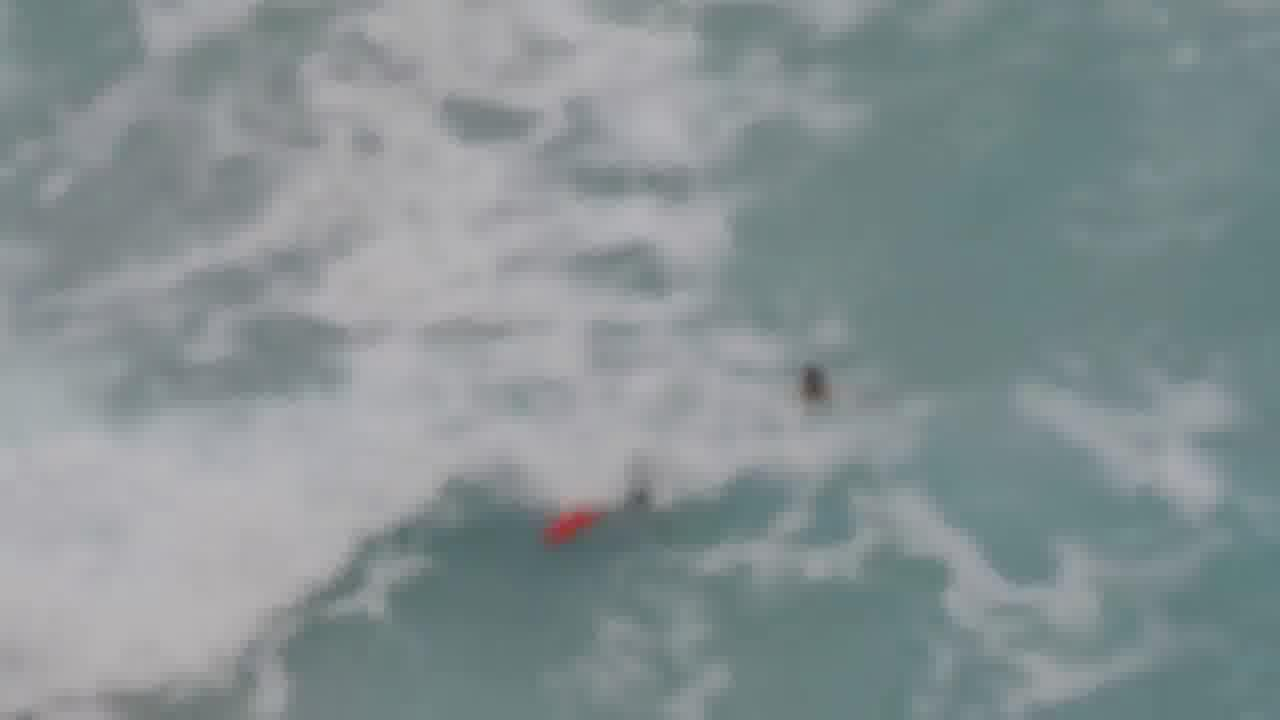human: (794, 350, 830, 400), (617, 471, 668, 505)
